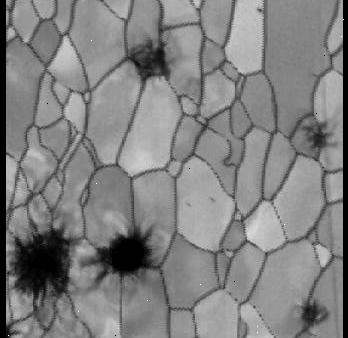good_void: (5, 217, 85, 303), (82, 225, 159, 284), (126, 38, 170, 84), (300, 119, 335, 158), (294, 298, 330, 328), (254, 6, 264, 15), (184, 200, 192, 210), (207, 196, 216, 203)
